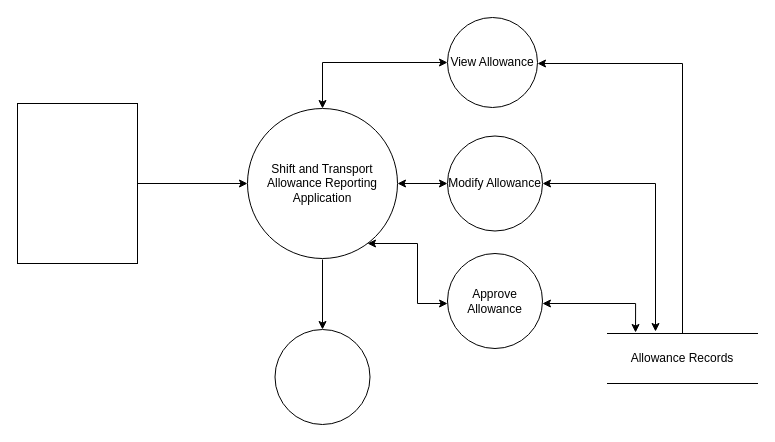
Some shapes in this 775 by 442 pixel diagram are drawn without their labels. Here are the shapes that lost their labels. From the top down, the box of each, then its label:
(16, 102, 138, 264): Leads
(274, 328, 370, 424): Export Allowance
